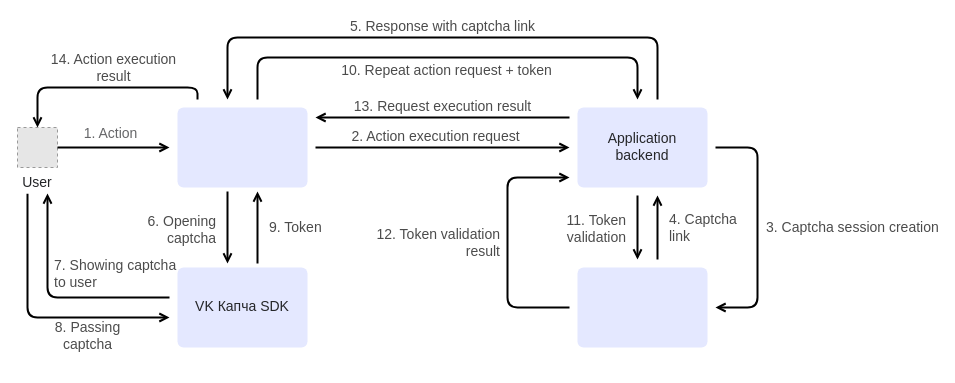
Image size: 955x383. Some labels were removed from this diagram. Grey dashed boxes stand in for pictures. Each missing label, with the centre of its shape:
"Application frontend" goes at pixel 242 147.
"VK Капча service" goes at pixel 642 307.
